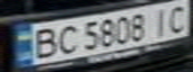0: (112, 14, 136, 45)
5: (78, 18, 103, 52)
8: (127, 10, 151, 42), (97, 16, 118, 48)
B: (24, 25, 63, 60)
C: (51, 21, 81, 55), (163, 1, 193, 34)
I: (145, 4, 175, 37)
